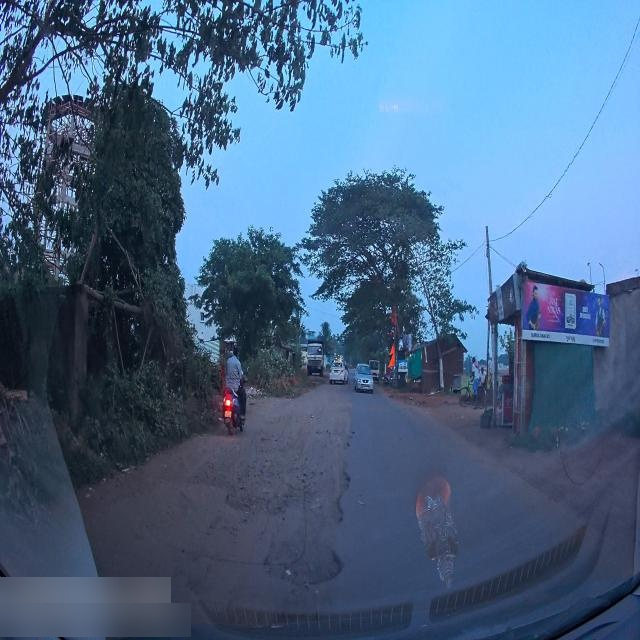pothole: (207, 425, 350, 578)
